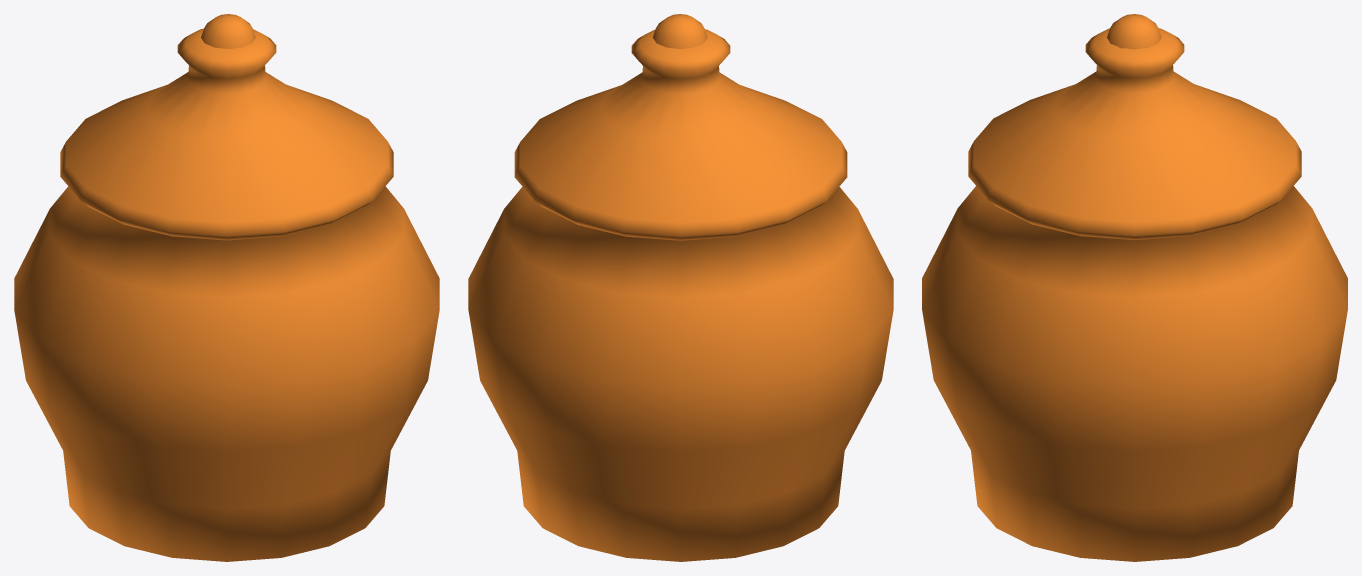
Rendered from SM_pottery_03.fbx.
3 renders of one model, left to right at view 1: azimuth 30°, elevation 25°; view 2: azimuth 150°, elevation 25°; view 3: azimuth 270°, elevation 25°, orthographic.
Visible parts, largest first — view 1: Cylinder071; view 2: Cylinder071; view 3: Cylinder071.
Part boxes in pixels (x1,y1,x2,y2): Cylinder071: (14,14,439,561); Cylinder071: (468,14,893,561); Cylinder071: (922,14,1347,561).
Size of the model in its own units: 21.98 by 26.81 by 21.65.
